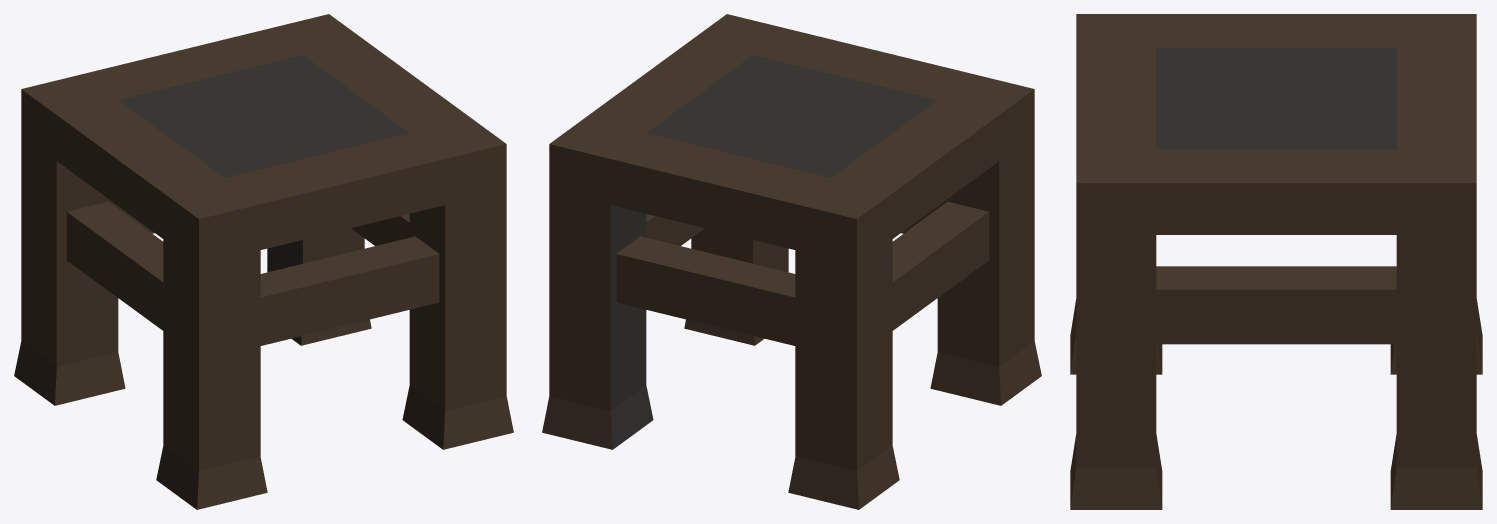
The model's file is Table_3.fbx.
The picture shows the model from 3 angles, left to right: view 1: azimuth 30°, elevation 25°; view 2: azimuth 150°, elevation 25°; view 3: azimuth 270°, elevation 25°; orthographic projection. The views are drawn at different scales.
Parts seen in each view (by area): view 1: Cube; view 2: Cube; view 3: Cube.
Boxes of the visible parts, x1,y1,x2,y2 form: Cube: (14,14,513,509); Cube: (542,14,1041,509); Cube: (1070,14,1482,509).
Size of the model in its own units: 206 by 179 by 206.
